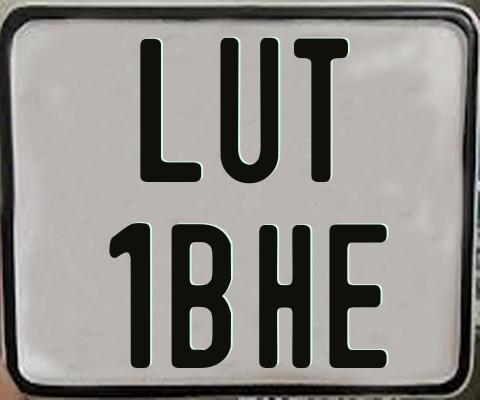1: (107, 220, 154, 371)
B: (169, 223, 235, 370)
E: (326, 221, 388, 367)
H: (259, 222, 310, 367)
L: (139, 38, 201, 183)
T: (293, 37, 350, 186)
U: (217, 37, 279, 186)
